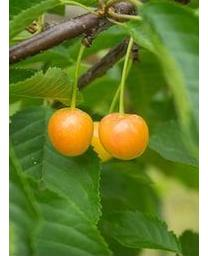cherry: (48, 107, 95, 157), (99, 113, 149, 160)
